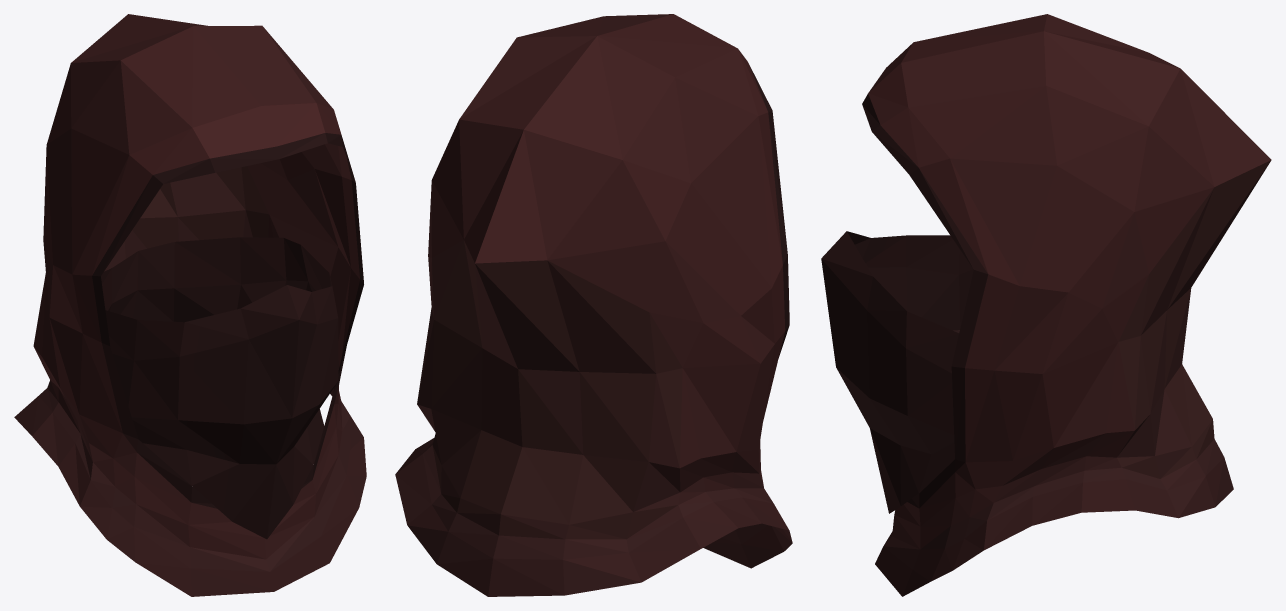
Rendered from hood.glb.
3 renders of one model, left to right at view 1: azimuth 30°, elevation 25°; view 2: azimuth 150°, elevation 25°; view 3: azimuth 270°, elevation 25°, orthographic. The views are drawn at different scales.
Parts seen in each view (by area): view 1: hood; view 2: hood; view 3: hood.
Boxes of the visible parts, <box> form: hood: <box>14,14,366,596</box>; hood: <box>395,14,792,596</box>; hood: <box>821,14,1271,596</box>.
Bounding box in the file's own units: 0.2998 × 0.5028 × 0.3854.
